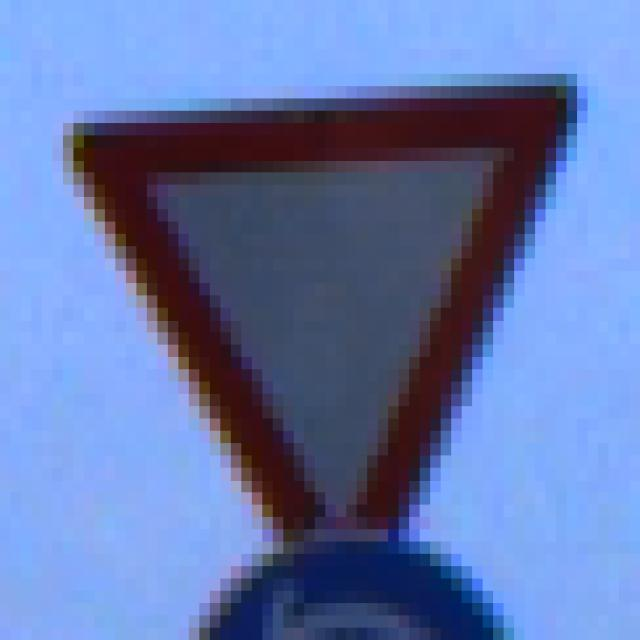Give Way: (54, 63, 589, 580)
